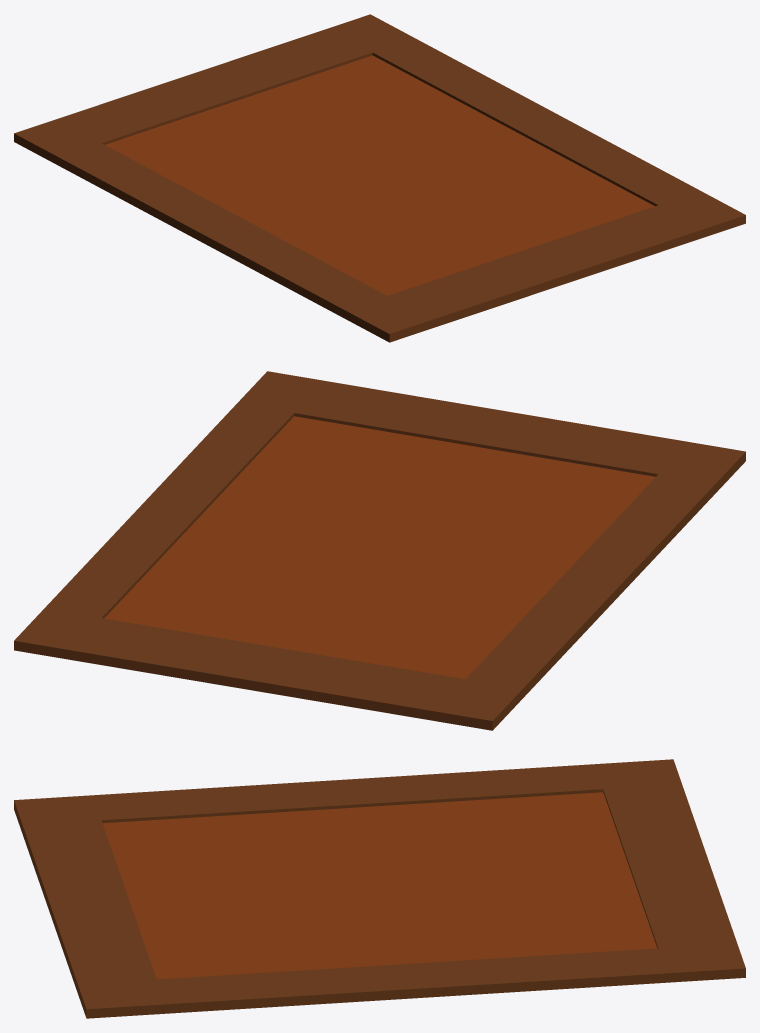
File: g_o_carpet_02.fbx
The picture shows the model from 3 angles, top to bottom: view 1: azimuth 30°, elevation 25°; view 2: azimuth 150°, elevation 25°; view 3: azimuth 270°, elevation 25°; orthographic projection. The views are drawn at different scales.
Visible parts, largest first — view 1: g_o_carpet_02; view 2: g_o_carpet_02; view 3: g_o_carpet_02.
Boxes of the visible parts, box(x1,y1,x2,y2) form: g_o_carpet_02: box(14, 14, 745, 342); g_o_carpet_02: box(14, 371, 745, 730); g_o_carpet_02: box(14, 759, 745, 1018).
Size of the model in its own units: 1.34 by 0.0235 by 1.65.
